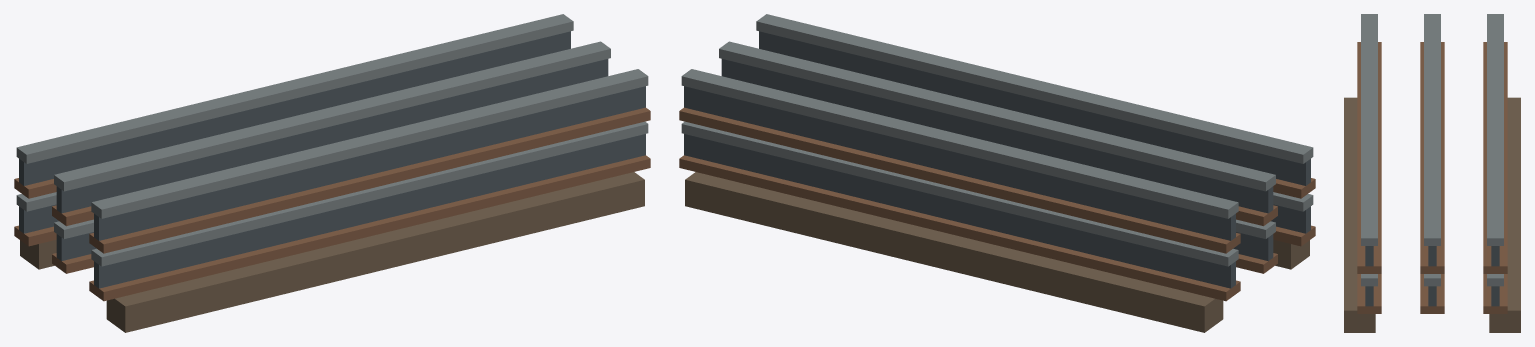
File: rail_pile.glb
3 renders of one model, left to right at view 1: azimuth 30°, elevation 25°; view 2: azimuth 150°, elevation 25°; view 3: azimuth 270°, elevation 25°, orthographic. The views are drawn at different scales.
Parts seen in each view (by area): view 1: rail_pile; view 2: rail_pile; view 3: rail_pile.
Part boxes in pixels (x1=…): rail_pile: x1=14, y1=14, x2=650, y2=332; rail_pile: x1=679, y1=14, x2=1315, y2=332; rail_pile: x1=1344, y1=14, x2=1520, y2=332.
Bounding box in the file's own units: 2.88 × 0.6 × 0.96.
